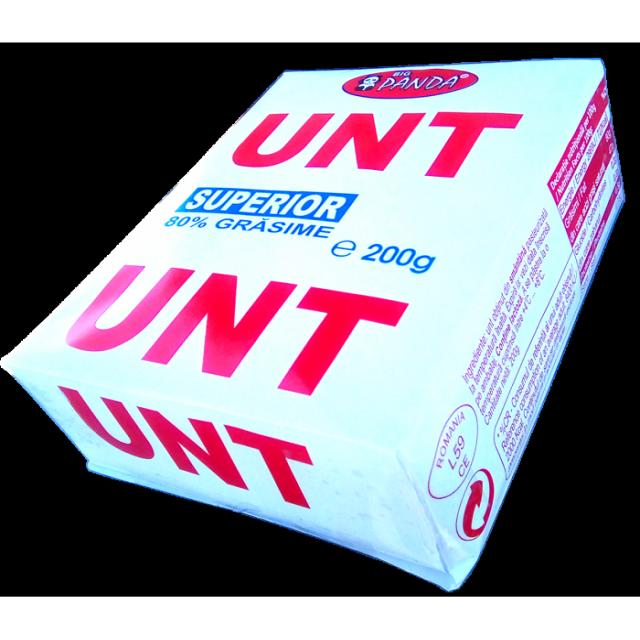butter: (4, 51, 631, 592)
